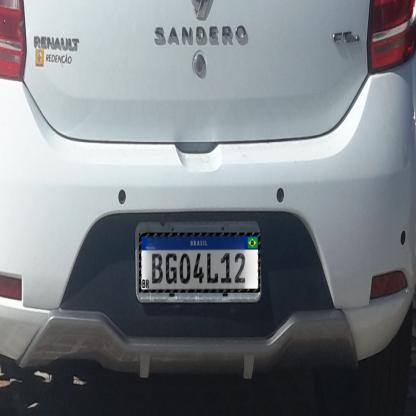PlacaM: (139, 233, 260, 292)
